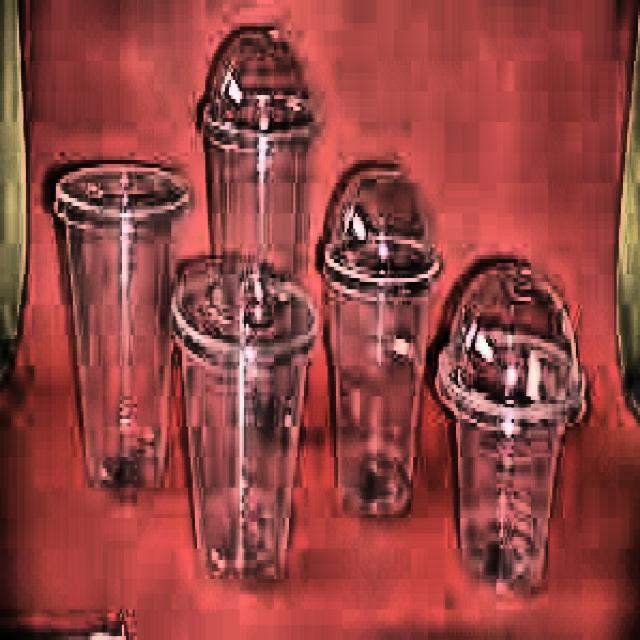plastic cup: (52, 160, 182, 504), (172, 266, 316, 573), (323, 242, 423, 511), (442, 419, 572, 585), (198, 136, 316, 276)
